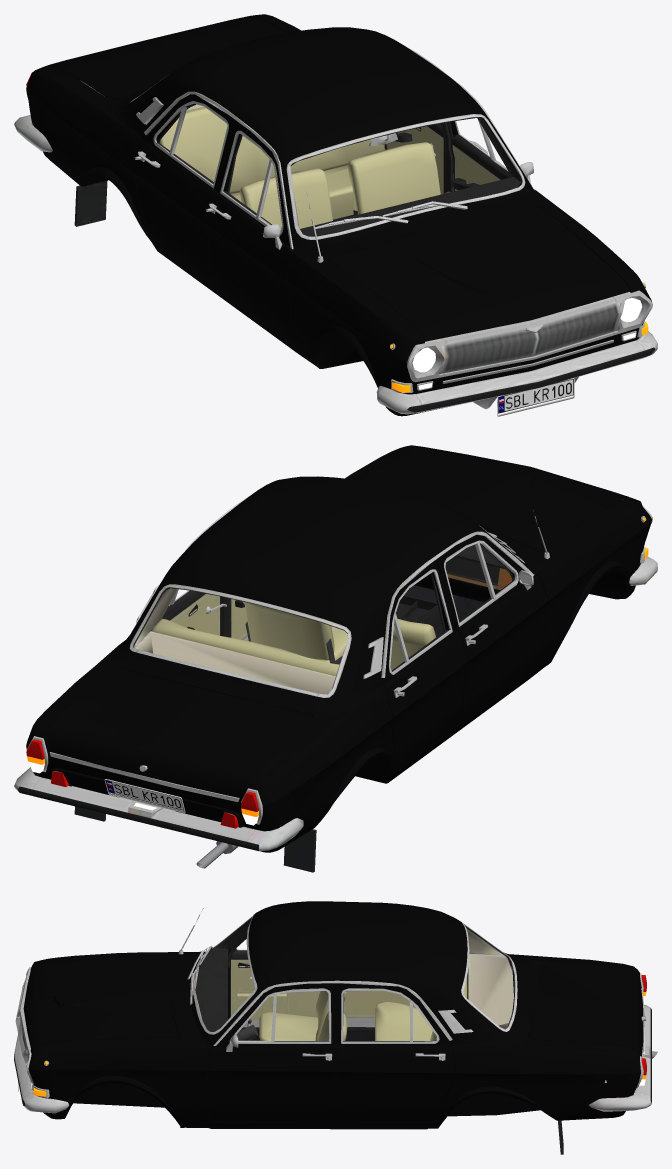
The model's file is volga.glb.
The picture shows the model from 3 angles, top to bottom: view 1: azimuth 30°, elevation 25°; view 2: azimuth 150°, elevation 25°; view 3: azimuth 270°, elevation 25°; orthographic projection. The views are drawn at different scales.
Visible parts, largest first — view 1: Object_95, Object_96, Object_158, Object_166, Object_156; view 2: Object_95, Object_96, Object_158, Object_163, Object_166; view 3: Object_95, Object_96, Object_158.
Part boxes in pixels (left/top/right/bottom): Object_95: left=26, top=14, right=651, bottom=416; Object_96: left=14, top=46, right=657, bottom=414; Object_158: left=160, top=106, right=450, bottom=230; Object_166: left=498, top=379, right=573, bottom=413; Object_156: left=412, top=298, right=642, bottom=389; Object_95: left=26, top=445, right=651, bottom=852; Object_96: left=14, top=494, right=657, bottom=872; Object_158: left=151, top=595, right=441, bottom=676; Object_163: left=26, top=739, right=258, bottom=828; Object_166: left=105, top=780, right=183, bottom=810; Object_95: left=23, top=901, right=643, bottom=1128; Object_96: left=14, top=908, right=657, bottom=1154; Object_158: left=237, top=976, right=467, bottom=1040.
Size of what is drawn, in the model's own units: 1.81 by 1.43 by 4.7.
8 materials, 3 textured.
